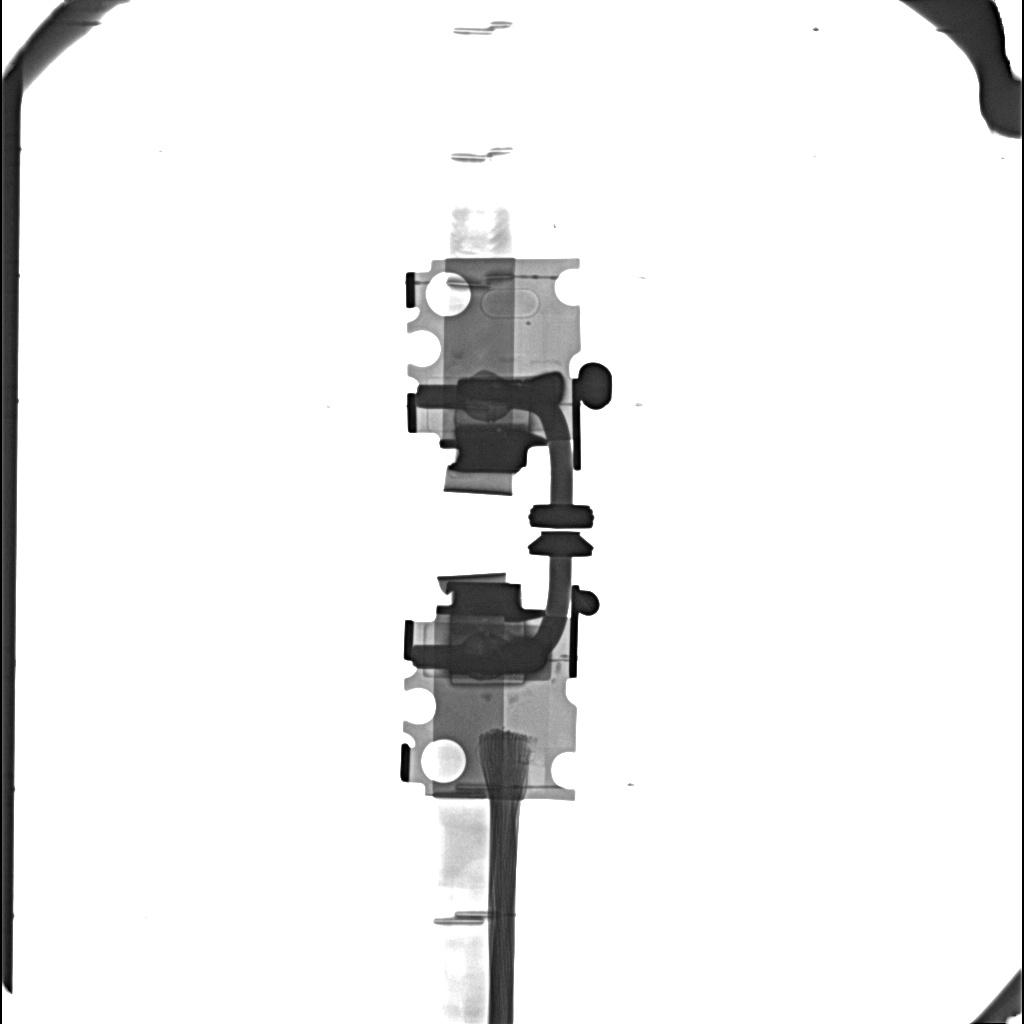defect: (449, 638, 547, 675), (456, 373, 563, 404), (450, 675, 526, 685)
